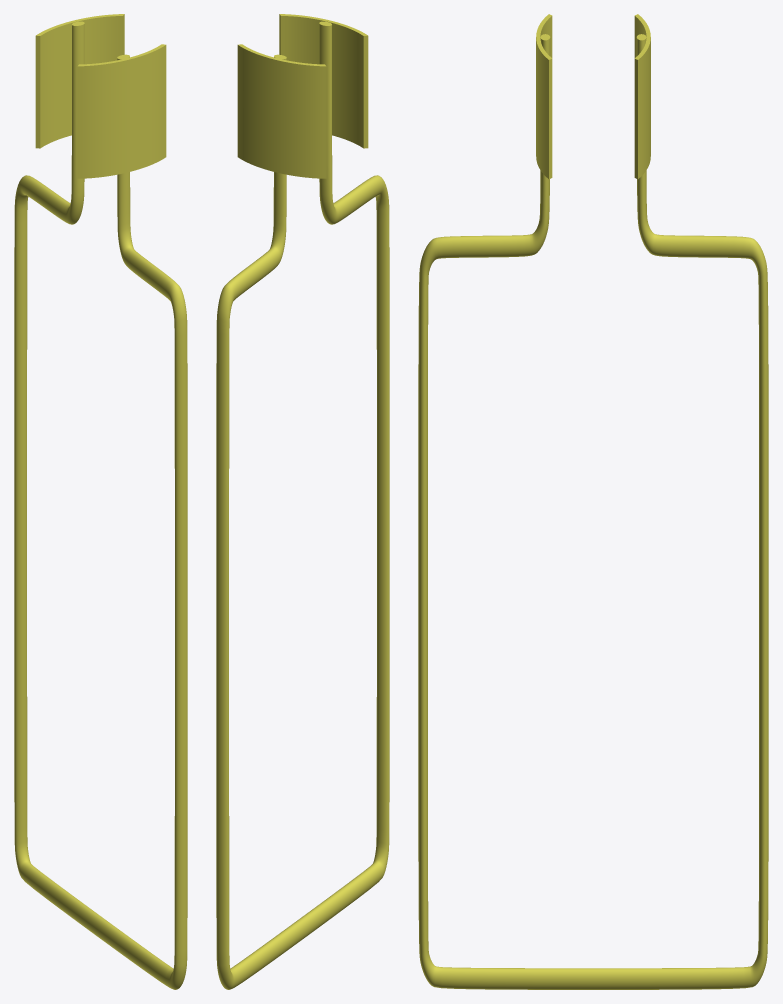
Rendered from рамкавппвп.fbx.
3 renders of one model, left to right at view 1: azimuth 30°, elevation 25°; view 2: azimuth 150°, elevation 25°; view 3: azimuth 270°, elevation 25°, orthographic. The views are drawn at different scales.
Visible parts, largest first — view 1: coil.001; view 2: coil.001; view 3: coil.001.
Boxes of the visible parts, bbox=[...] form: coil.001: bbox=[14, 14, 187, 989]; coil.001: bbox=[216, 14, 389, 989]; coil.001: bbox=[418, 14, 768, 989].
Bounding box in the file's own units: 2.8 × 27.01 × 9.01.
